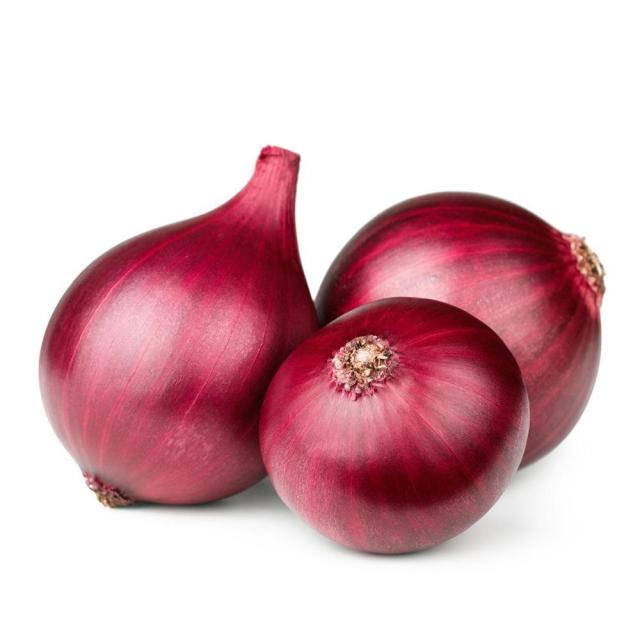Onion: (38, 145, 319, 508), (317, 191, 608, 468), (258, 296, 530, 554)
